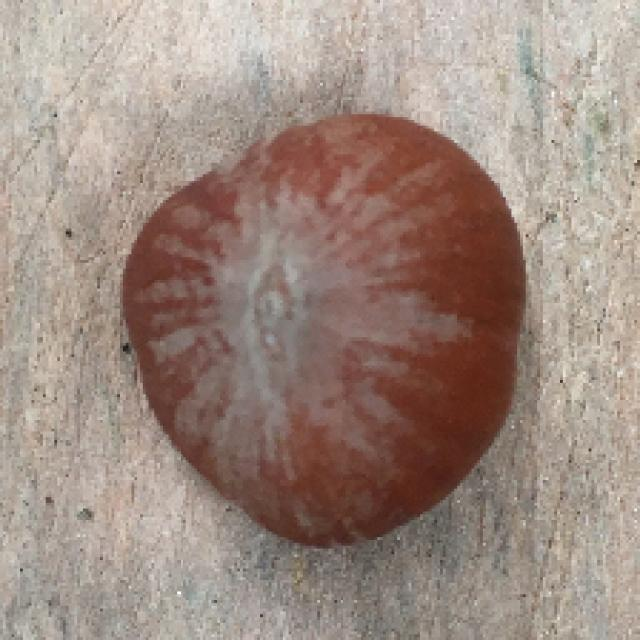qualityHazelnut: (117, 114, 536, 556)
